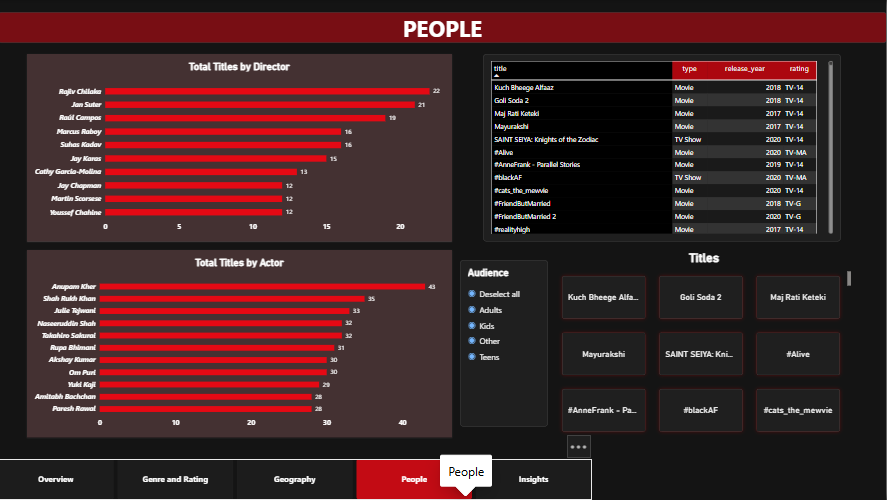

This screenshot's page, from the dashboard's own definition file:
{"tool":"powerbi","page":{"name":"People","canvas":[1920,1080],"ordinal":3},"visuals":[{"type":"clusteredBarChart","fields":{"Category":["Title_Director.Director"],"Y":["_Measures.Total Titles"]},"box":[62.5,117.5,917.5,405],"z":0},{"type":"clusteredBarChart","fields":{"Category":["Title_Cast.Actor"],"Y":["_Measures.Total Titles"]},"box":[62.5,540,917.5,405],"z":1000},{"type":"tableEx","fields":{"Values":["Titles.title","Titles.type","Titles.release_year","Titles.rating"]},"box":[1047.5,117.5,772.5,405],"z":2000},{"type":"advancedSlicerVisual","title":"Titles","fields":{"Values":["Titles.title"]},"box":[1207.5,540,635,405],"z":3000},{"type":"listSlicer","fields":{"Values":["Titles.Audience"]},"box":[997.5,562.5,190,360],"z":7000},{"type":"textbox","box":[0,25.9,1920.2,67],"z":8000},{"type":"pageNavigator","box":[0,992.5,1282.5,87.5],"z":8001}]}

Visuals, with their boxes on the page's 1920x1080 design canvas (x1, y1, x2, y2). These are canvas units, not pixel positions in the 887x500 screenshot, which may show the page scaled, cropped or inside an application window:
clusteredBarChart - Title_Director.Director x _Measures.Total Titles: Rect(62, 118, 980, 522)
clusteredBarChart - Title_Cast.Actor x _Measures.Total Titles: Rect(62, 540, 980, 945)
tableEx - Titles.title x Titles.type: Rect(1048, 118, 1820, 522)
"Titles" advancedSlicerVisual: Rect(1208, 540, 1842, 945)
listSlicer - Titles.Audience: Rect(998, 562, 1188, 922)
textbox: Rect(0, 26, 1920, 93)
pageNavigator: Rect(0, 992, 1282, 1080)
